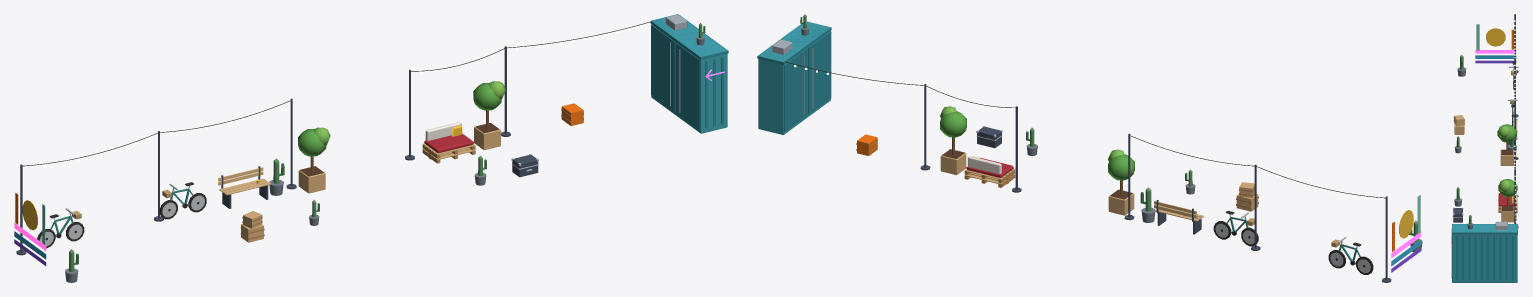
File: einrichtung_hof.glb
3 views of the same model, side by side, from view 1: azimuth 30°, elevation 25°; view 2: azimuth 150°, elevation 25°; view 3: azimuth 270°, elevation 25° (orthographic). The views are drawn at different scales.
Visible parts, largest first — view 1: einrichtung_hof; view 2: einrichtung_hof; view 3: einrichtung_hof.
Part boxes in pixels (x1,y1,x2,y2): einrichtung_hof: [14, 14, 728, 282]; einrichtung_hof: [757, 14, 1422, 282]; einrichtung_hof: [1451, 14, 1518, 282].
Size of the model in its own units: 20.8 by 2.93 by 2.79.
